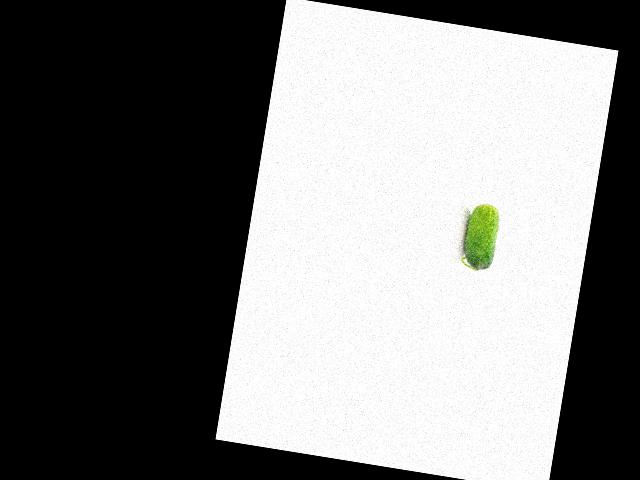cucumber: (459, 200, 501, 272)
